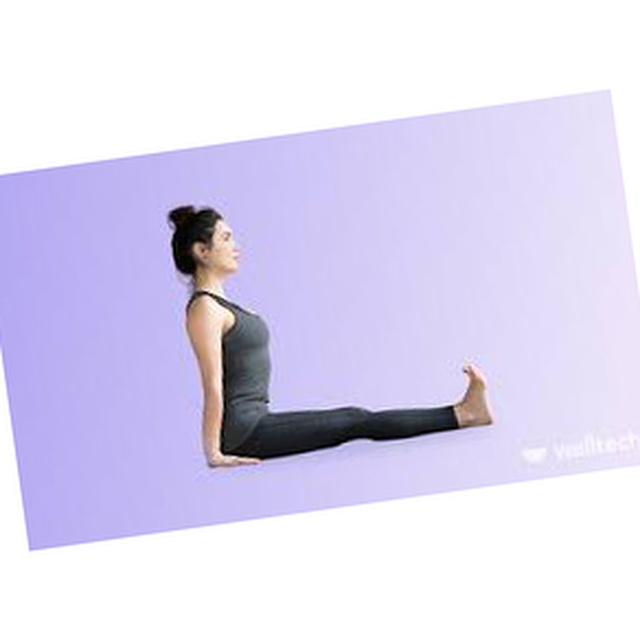Staff_Pose: (166, 203, 496, 470)
